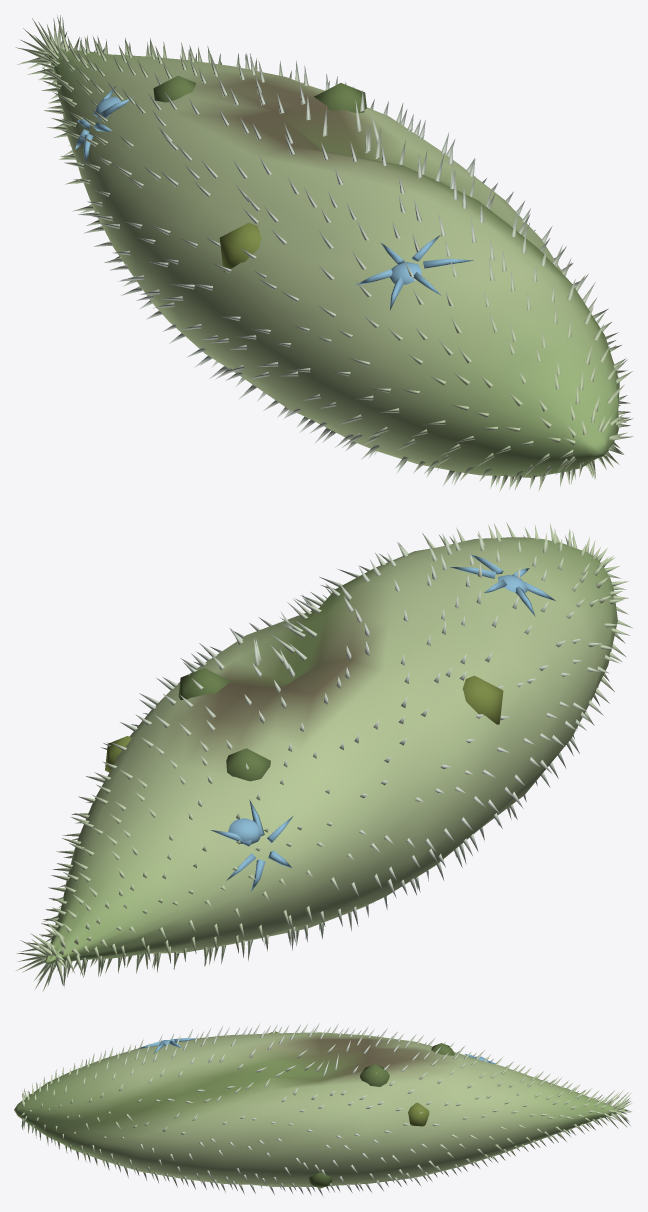
File: Paramecium.fbx
3 renders of one model, top to bottom at view 1: azimuth 30°, elevation 25°; view 2: azimuth 150°, elevation 25°; view 3: azimuth 270°, elevation 25°, orthographic. The views are drawn at different scales.
Visible parts, largest first — view 1: Paramecium; view 2: Paramecium; view 3: Paramecium.
Boxes of the visible parts, box(x1,y1,x2,y2) form: Paramecium: box(15, 15, 633, 491); Paramecium: box(16, 522, 632, 991); Paramecium: box(14, 1023, 632, 1196).
Bounding box in the file's own units: 0.552 × 0.4307 × 1.62.
